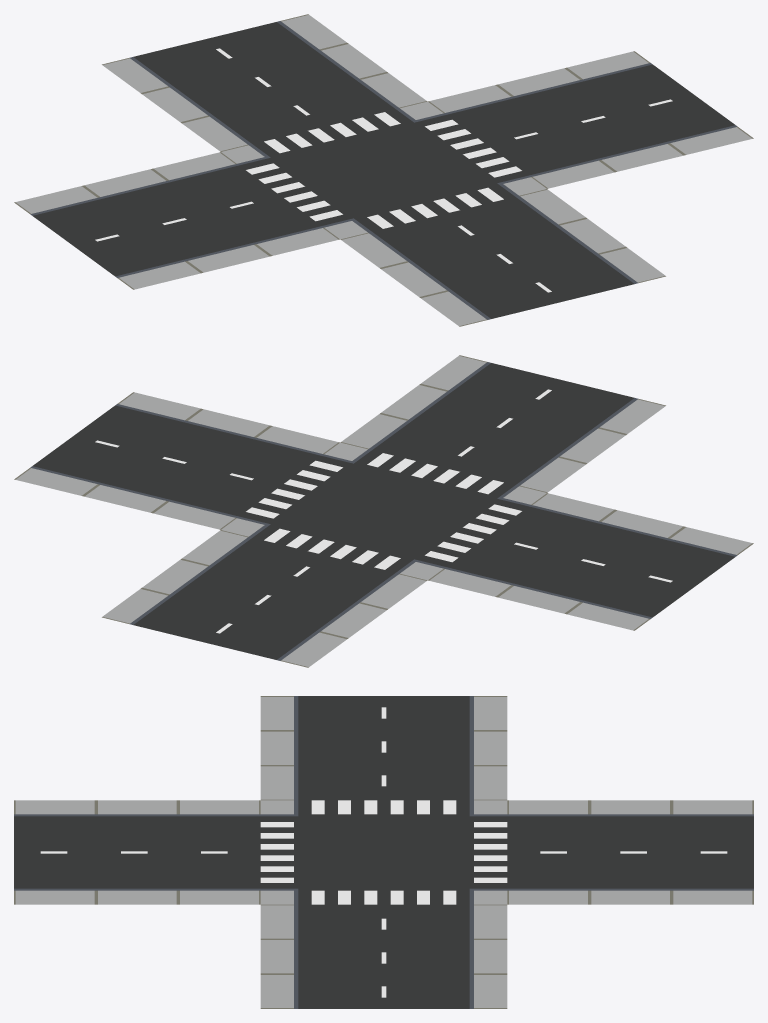
File: road junction1.FBX
The picture shows the model from 3 angles, top to bottom: view 1: azimuth 30°, elevation 25°; view 2: azimuth 150°, elevation 25°; view 3: azimuth 270°, elevation 25°; orthographic projection. The views are drawn at different scales.
Visible parts, largest first — view 1: road junction1; view 2: road junction1; view 3: road junction1.
Boxes of the visible parts, bbox=[...] form: road junction1: bbox=[14, 14, 753, 326]; road junction1: bbox=[14, 355, 753, 667]; road junction1: bbox=[14, 696, 753, 1008].
Bounding box in the file's own units: 60 × 8.03e-06 × 60.
